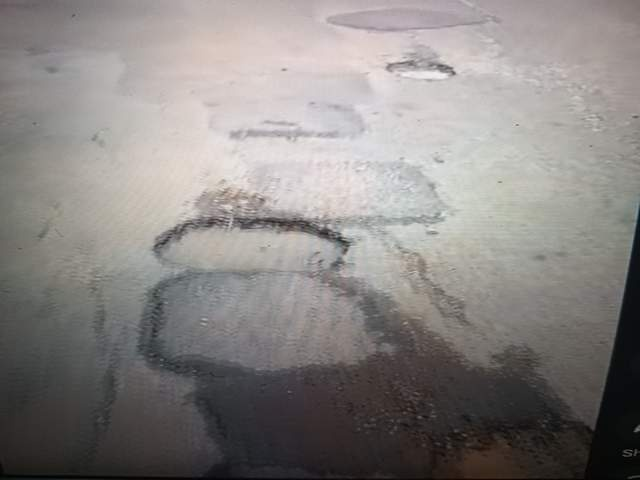pothole: (110, 403, 330, 480)
